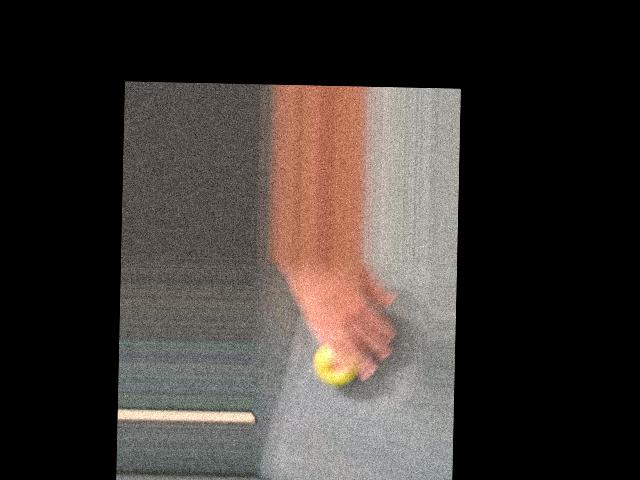apple: (301, 306, 366, 395)
